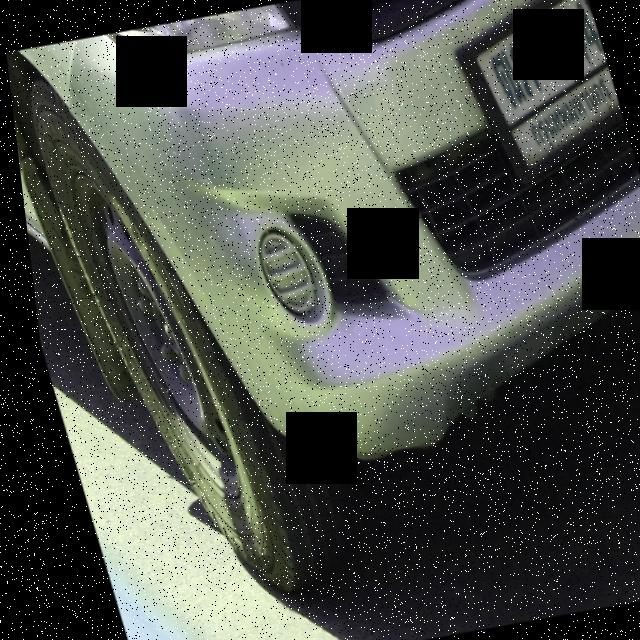text: (476, 0, 617, 168)
